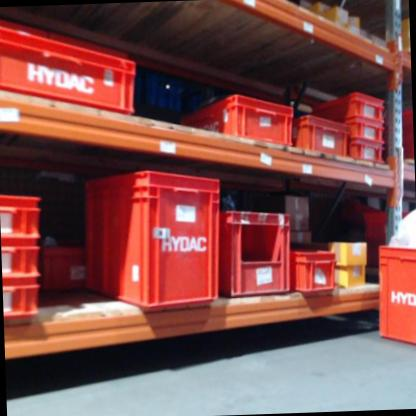small_load_carrier: (79, 167, 225, 311), (0, 14, 143, 125), (185, 93, 297, 160), (219, 204, 293, 299), (378, 246, 416, 348), (287, 242, 341, 296), (307, 90, 387, 126), (291, 110, 347, 161), (0, 185, 50, 241), (2, 238, 47, 283), (4, 277, 44, 326), (46, 246, 87, 291), (340, 141, 390, 171), (339, 122, 388, 143)
